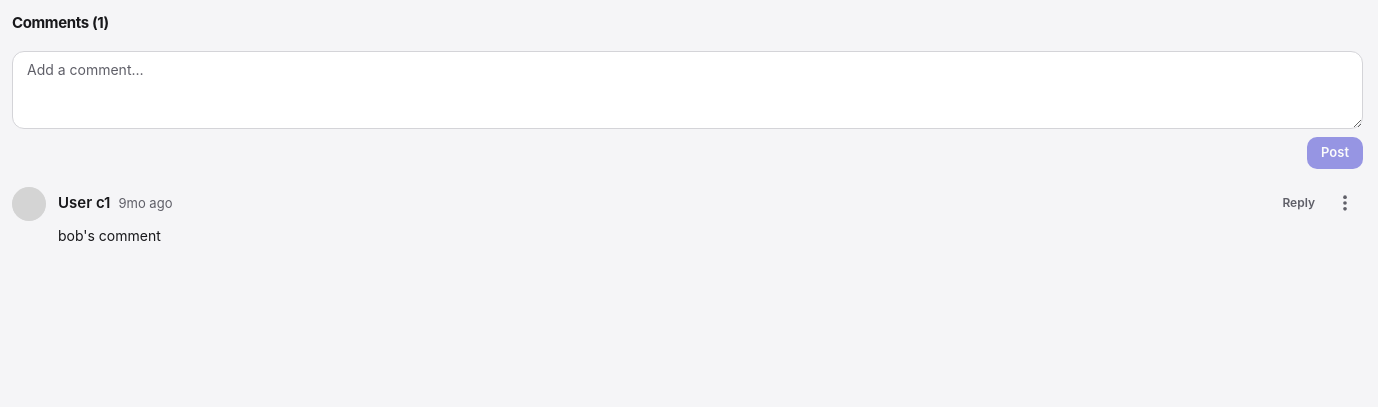
Test case: CommentsSection contact actions under the instance messaging gate › drops Message and Encrypted message when the instance discloses messaging: false
The image size is (1378, 407).
What coordinates should you click on to do the following:
click the button named "Comment actions"
I would click on:
 (1345, 202)
Its box is left=1327, top=184, right=1363, bottom=220.
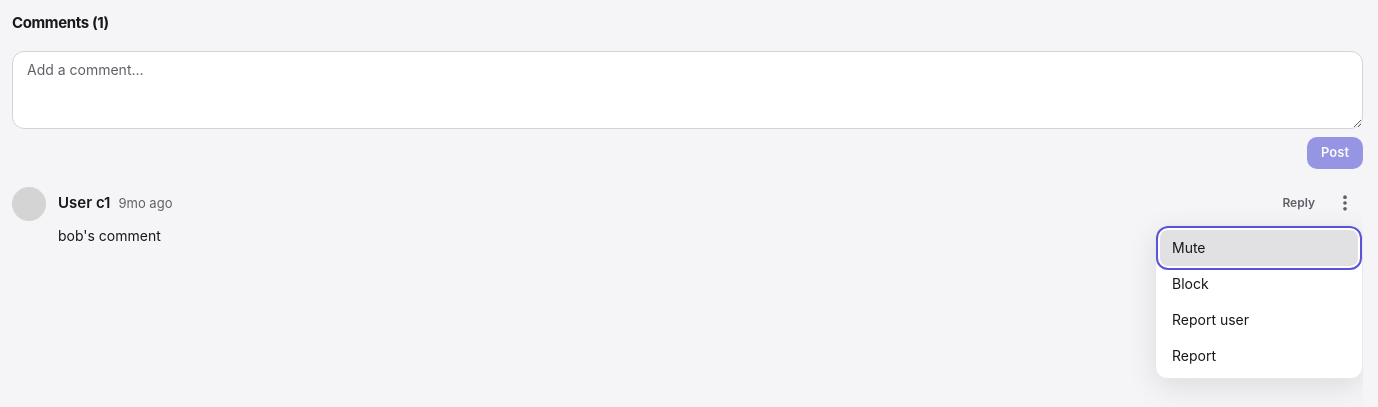
Expected: the menu item "Mute" is shown, left=1160, top=230, right=1358, bottom=266
Expected: the menu item "Block" is shown, left=1160, top=266, right=1358, bottom=302
Expected: the menu item "Report user" is shown, left=1160, top=302, right=1358, bottom=338
